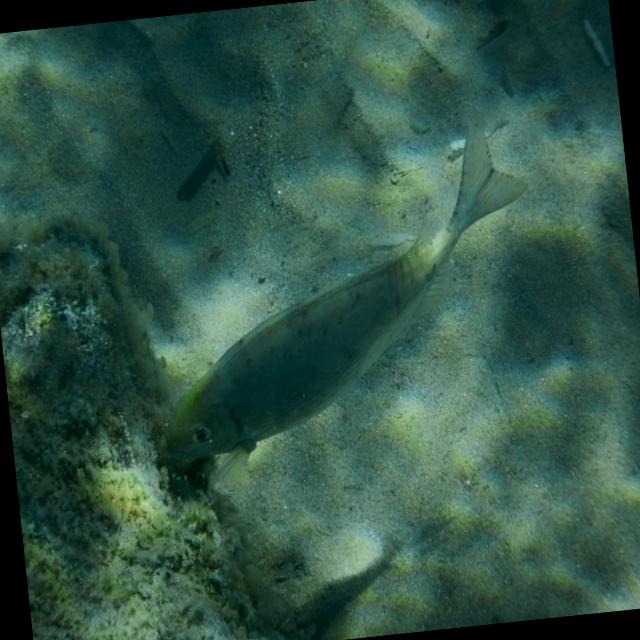Sokar Baligi: (113, 89, 567, 492)
